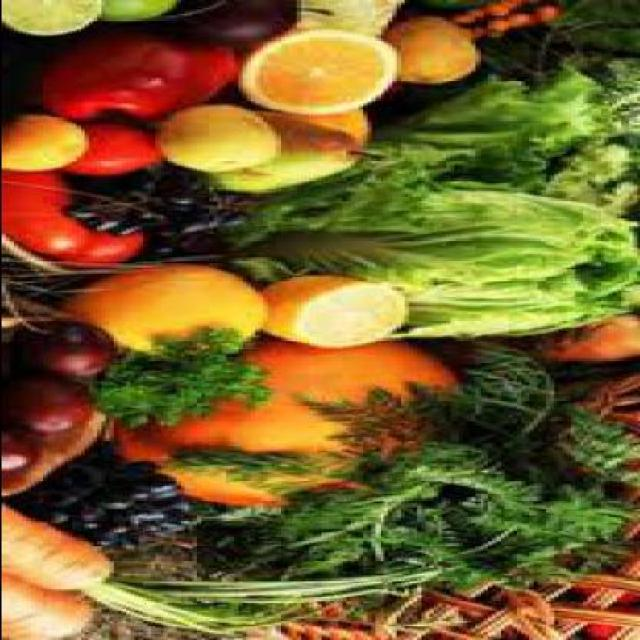BIODEGRADABLE: (232, 67, 598, 245), (233, 180, 639, 338), (109, 340, 453, 502), (370, 438, 638, 594), (108, 552, 466, 636), (4, 291, 121, 494), (16, 437, 204, 548), (26, 25, 246, 118), (62, 263, 275, 357), (58, 166, 254, 260), (95, 326, 278, 425), (298, 382, 462, 470), (420, 337, 562, 435), (212, 115, 391, 192), (241, 28, 404, 112), (4, 168, 145, 263), (258, 488, 394, 575), (262, 273, 416, 345), (175, 447, 382, 498), (565, 0, 639, 138), (9, 493, 116, 585), (158, 104, 278, 170), (4, 315, 121, 377), (557, 391, 638, 475), (195, 506, 299, 568), (4, 570, 96, 638), (149, 1, 303, 41), (4, 372, 96, 434), (560, 138, 638, 211), (396, 15, 482, 81), (62, 119, 158, 176), (5, 113, 90, 170), (270, 108, 378, 144), (299, 0, 407, 34), (461, 0, 557, 37), (4, 0, 108, 34), (4, 418, 50, 464), (98, 0, 179, 18)
